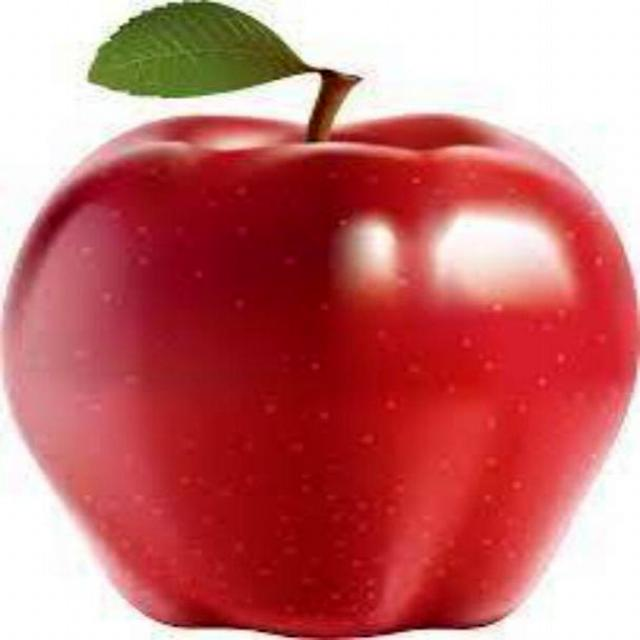HEALTHY: (22, 97, 639, 640)
